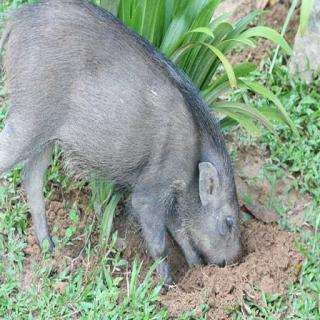Pig: (0, 0, 283, 310)
